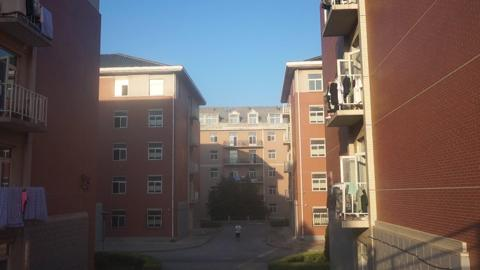UAV: (224, 107, 235, 112)
